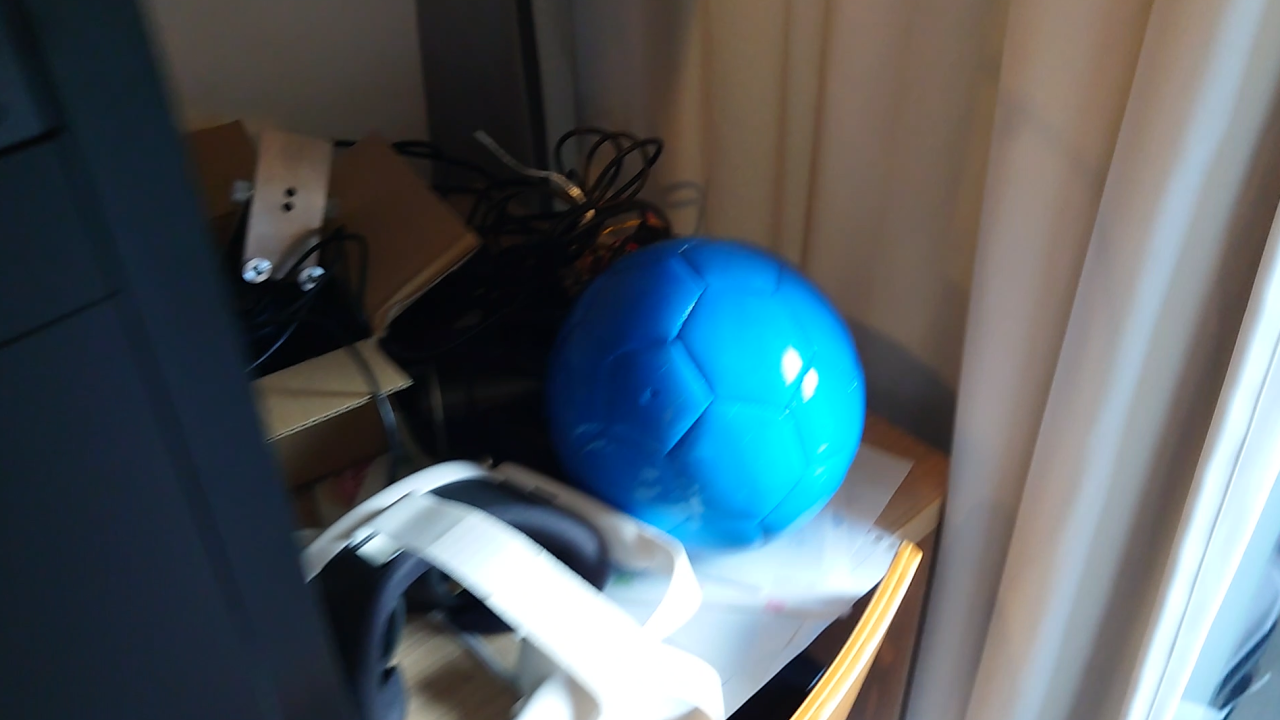BlueBall: (548, 248, 869, 558)
